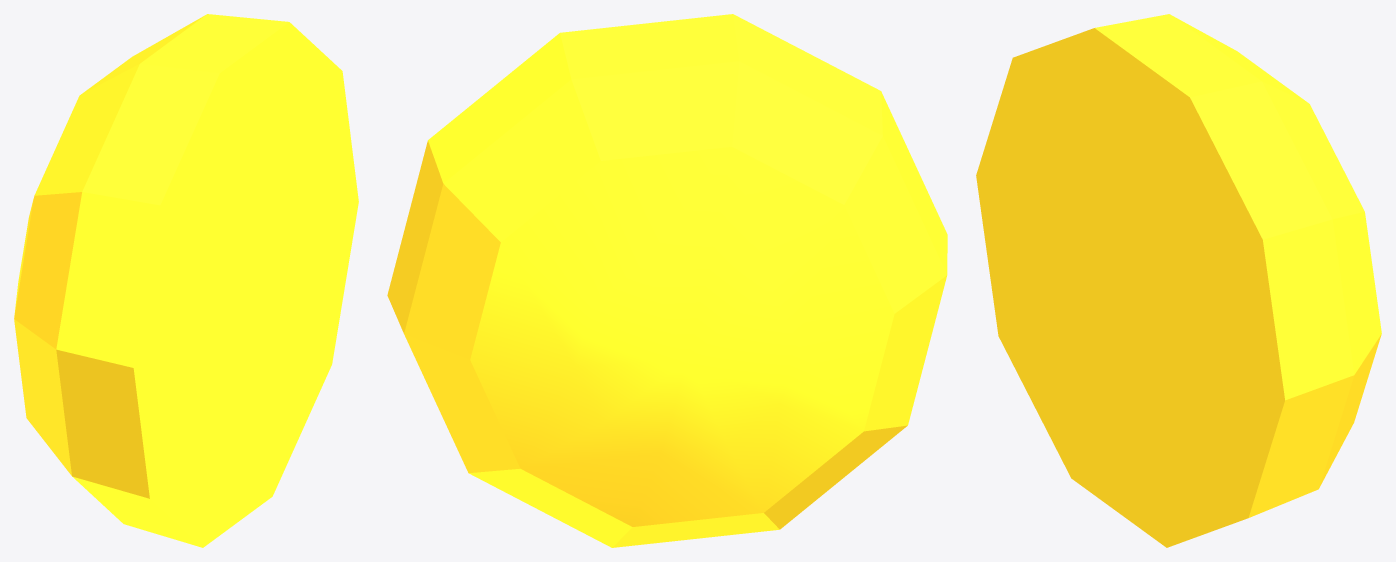
Rendered from EM_Lamp.fbx.
The picture shows the model from 3 angles, left to right: view 1: azimuth 30°, elevation 25°; view 2: azimuth 150°, elevation 25°; view 3: azimuth 270°, elevation 25°; orthographic projection. The views are drawn at different scales.
Parts seen in each view (by area): view 1: EM_Lamp; view 2: EM_Lamp; view 3: EM_Lamp.
Part boxes in pixels (x1,y1,x2,y2): EM_Lamp: [14, 14, 358, 547]; EM_Lamp: [387, 14, 947, 547]; EM_Lamp: [976, 14, 1381, 547].
Size of the model in its own units: 1.19 by 1.28 by 0.991.
